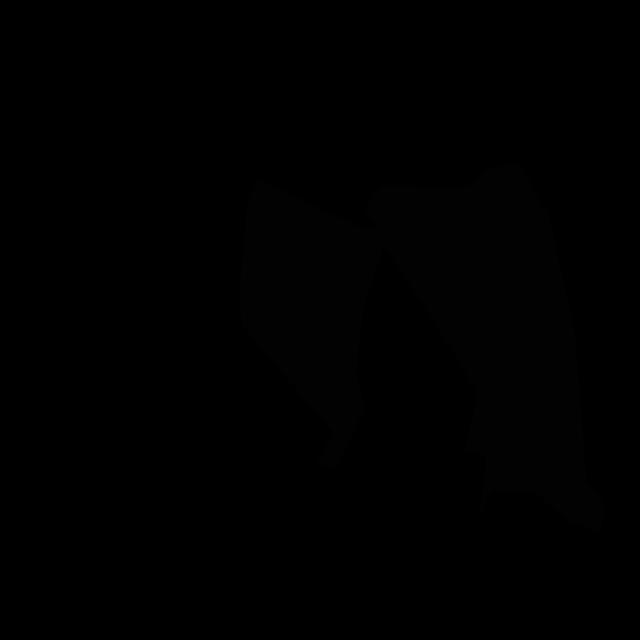cardboard: (364, 164, 606, 532), (239, 179, 384, 469)
